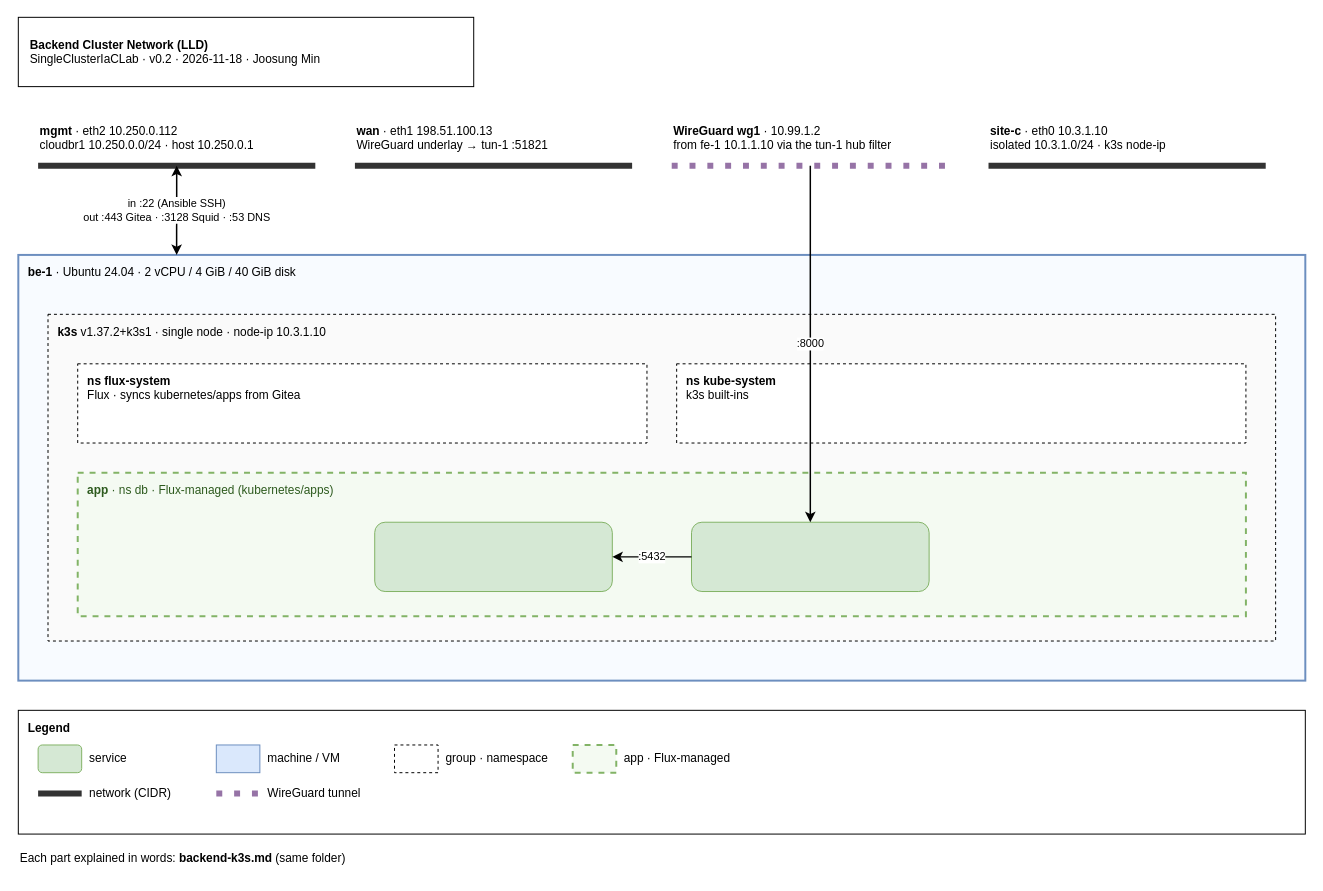
Image size: 1323x891. Some labels were removed from this diagram. The centre of each missing label's shape, as x and y in pixels:
postgres :5432: point (493, 556)
PostgREST LoadBalancer :8000: point (810, 556)
